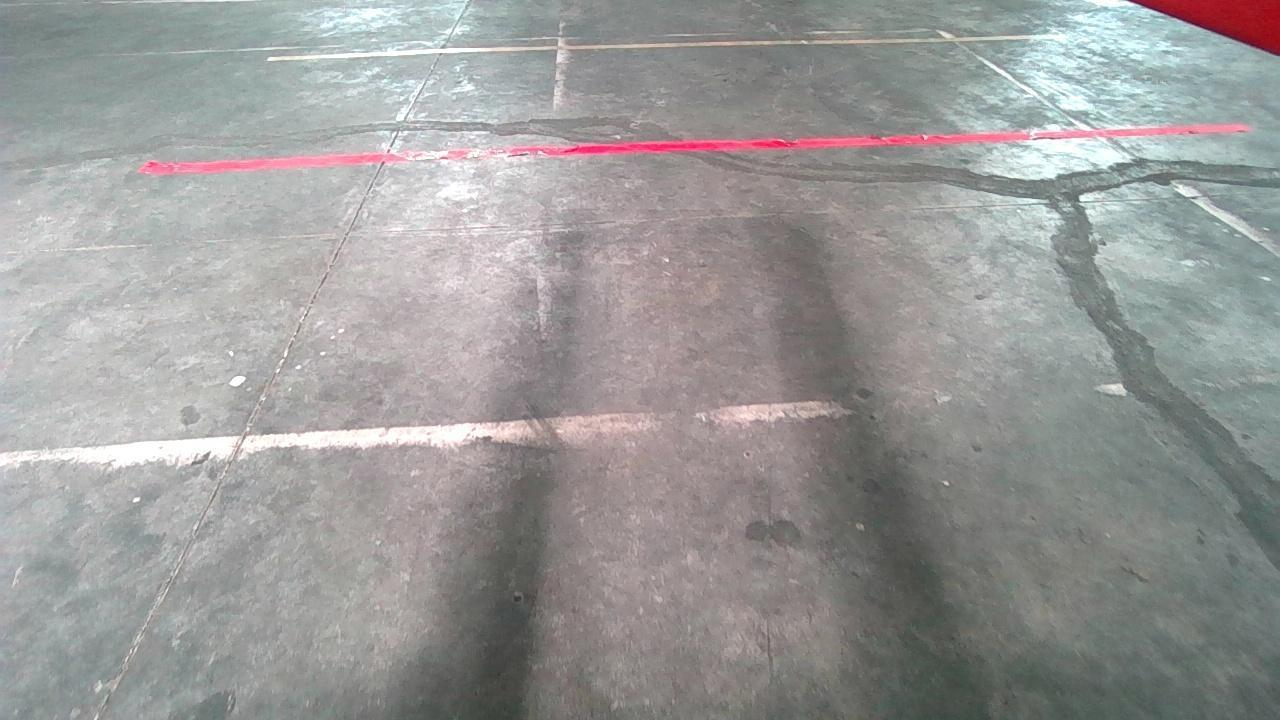red_line: (138, 124, 1250, 175)
